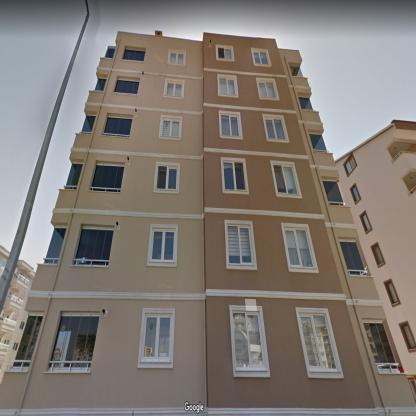window: (49, 315, 99, 368), (299, 313, 339, 371), (232, 311, 266, 371), (140, 313, 172, 363), (13, 316, 42, 369), (74, 229, 113, 265), (284, 226, 316, 269), (364, 321, 395, 365), (226, 223, 254, 266), (150, 228, 176, 263), (272, 163, 300, 195), (91, 164, 123, 191), (340, 240, 366, 273), (222, 160, 247, 191), (44, 228, 66, 263), (103, 114, 132, 136), (156, 165, 178, 191), (264, 116, 287, 140), (220, 113, 241, 137), (113, 78, 140, 94), (160, 117, 180, 138), (66, 163, 82, 188), (323, 180, 342, 201), (218, 76, 236, 96), (258, 80, 277, 98), (402, 324, 416, 348), (165, 80, 183, 97), (386, 281, 399, 304), (252, 50, 270, 65), (310, 134, 326, 150), (82, 115, 96, 133), (123, 50, 145, 61), (373, 243, 384, 265), (344, 155, 356, 175), (217, 46, 233, 60), (361, 213, 371, 232), (169, 52, 184, 64), (298, 97, 312, 109), (351, 185, 360, 201), (95, 78, 106, 90), (105, 46, 115, 58), (13, 344, 18, 350), (20, 322, 24, 328)
